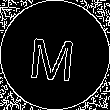M_N: (30, 28, 80, 82)
